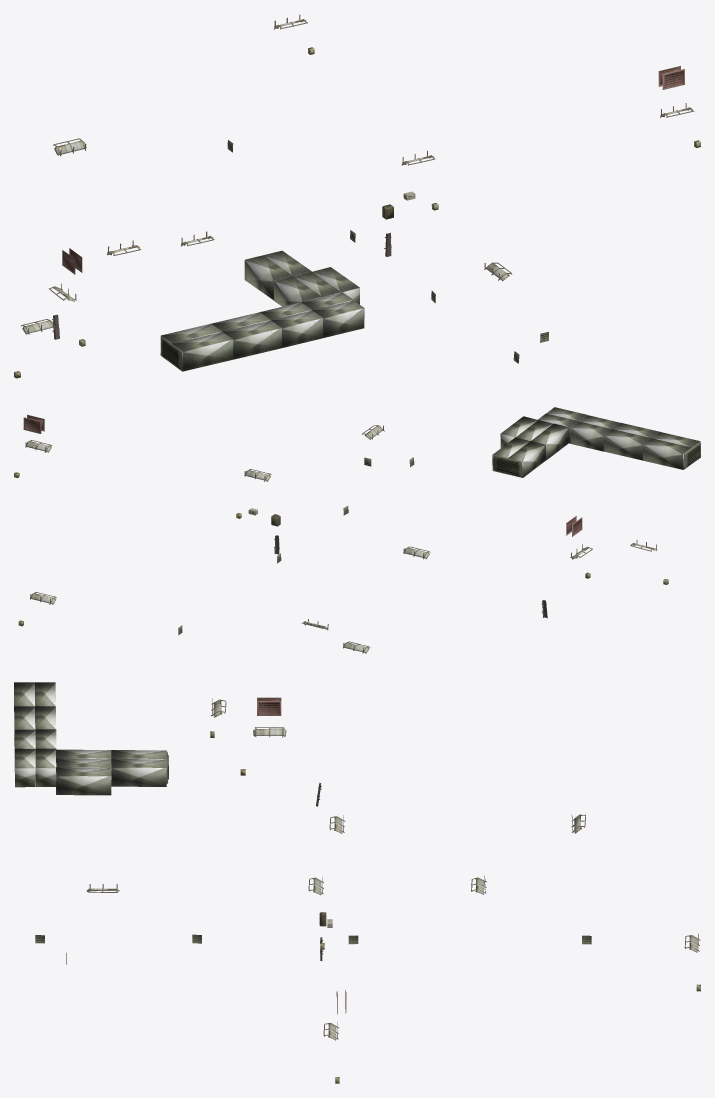
File: Corridor_01_22.fbx
The picture shows the model from 3 angles, top to bottom: view 1: azimuth 30°, elevation 25°; view 2: azimuth 150°, elevation 25°; view 3: azimuth 270°, elevation 25°; orthographic projection. The views are drawn at different scales.
Parts seen in each view (by area): view 1: Corridor_01_22; view 2: Corridor_01_22; view 3: Corridor_01_22.
Boxes of the visible parts, bbox=[...] form: Corridor_01_22: bbox=[14, 14, 700, 378]; Corridor_01_22: bbox=[14, 407, 700, 653]; Corridor_01_22: bbox=[14, 682, 700, 1083].
Bounding box in the file's own units: 3619 × 586 × 3021.
